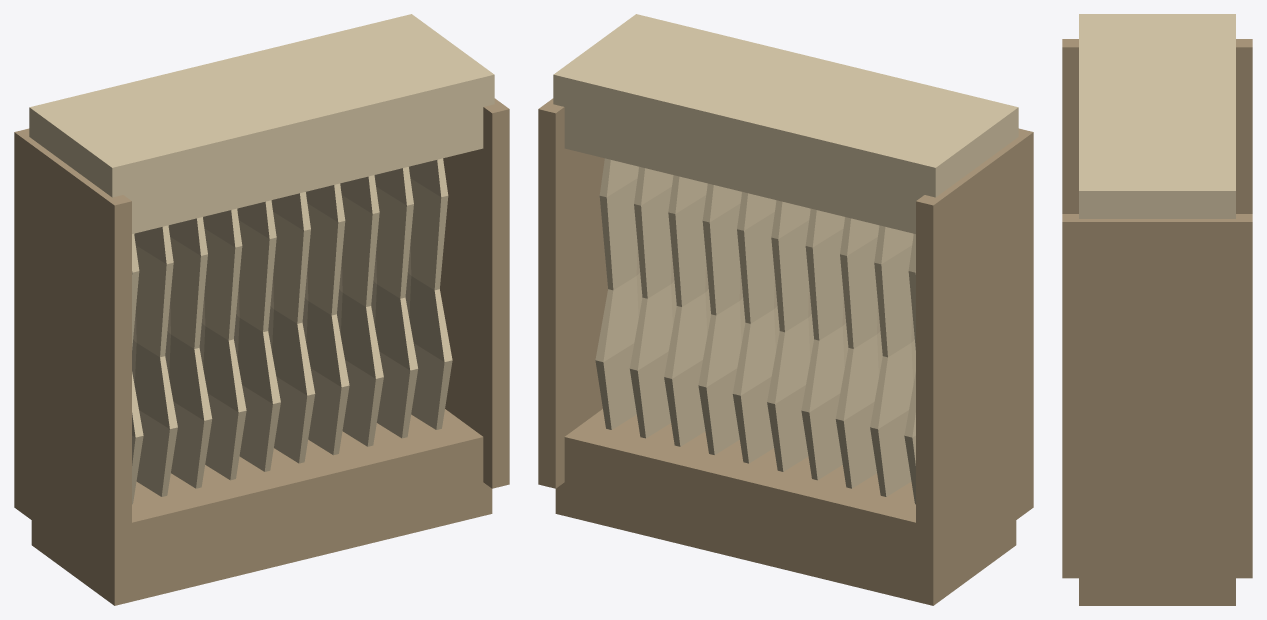
The model's file is Royal_Balustrade.fbx.
3 views of the same model, side by side, from view 1: azimuth 30°, elevation 25°; view 2: azimuth 150°, elevation 25°; view 3: azimuth 270°, elevation 25° (orthographic). The views are drawn at different scales.
Parts seen in each view (by area): view 1: Royal_Balustrade; view 2: Royal_Balustrade; view 3: Royal_Balustrade.
Boxes of the visible parts, x1,y1,x2,y2 form: Royal_Balustrade: (14, 14, 509, 605); Royal_Balustrade: (538, 14, 1033, 605); Royal_Balustrade: (1062, 14, 1252, 605).
Size of the model in its own units: 1.05 by 1.11 by 0.46.
